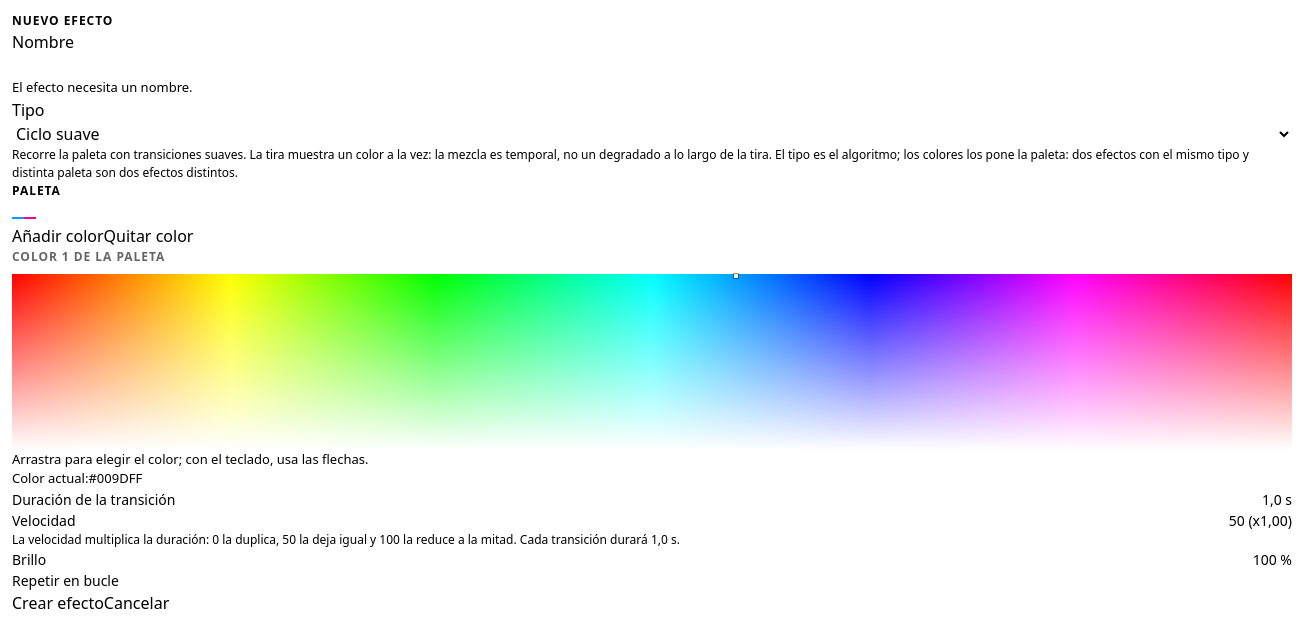
Test: editor de efectos › el brillo mínimo solo aparece donde hay envolvente
Expected: the field labelled "Brillo mínimo" is not shown
Expected: the slider labelled "Brillo" is shown, [12,548,46,570]
Select "Pulso" in the dropdown labelled "Tipo": x=652, y=134 [12,122,1292,146]
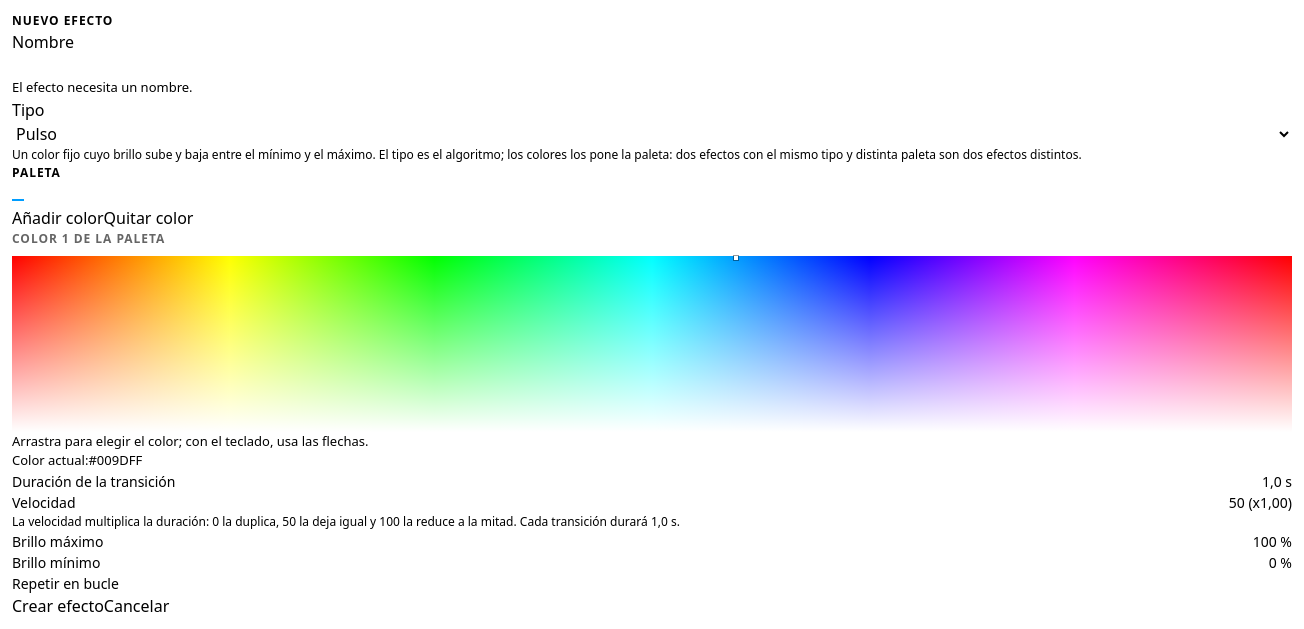
Expected: the slider labelled "Brillo mínimo" is shown, [12,552,100,572]
Expected: the slider labelled "Brillo máximo" is shown, [12,530,103,552]
